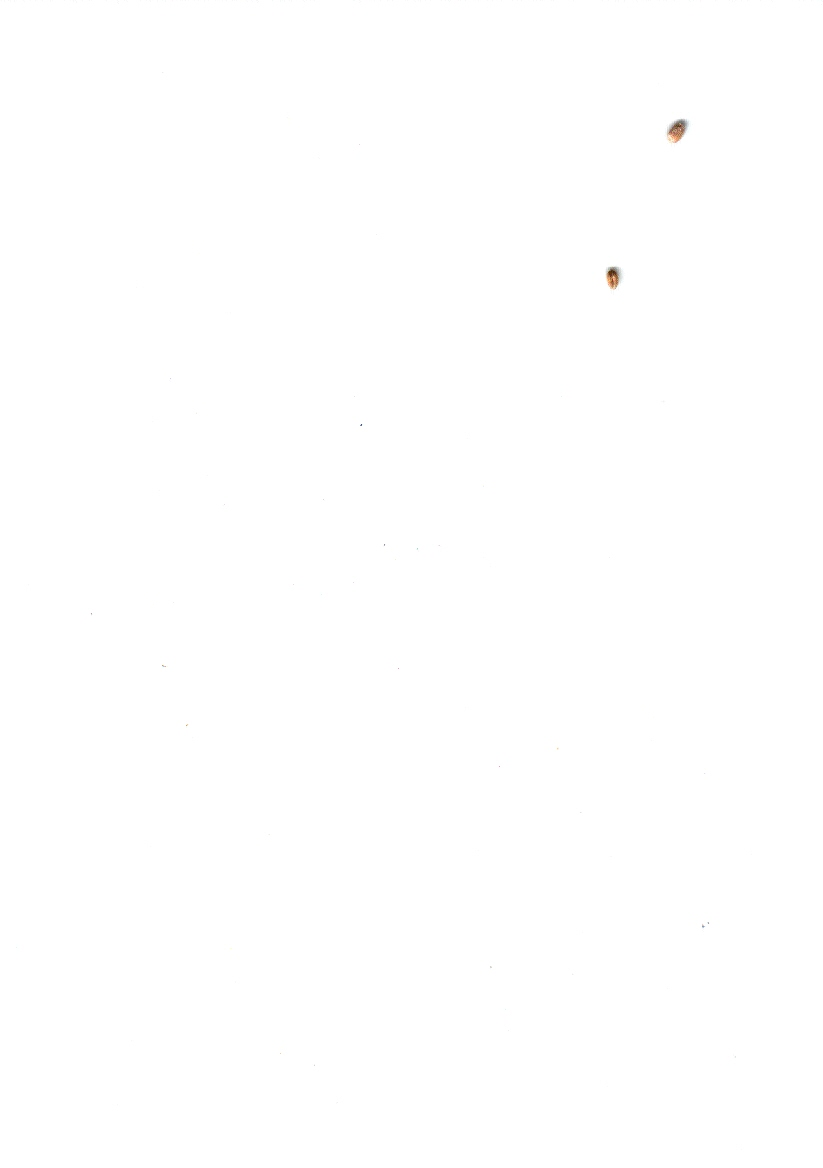grains: (659, 114, 698, 153), (598, 260, 627, 298)
